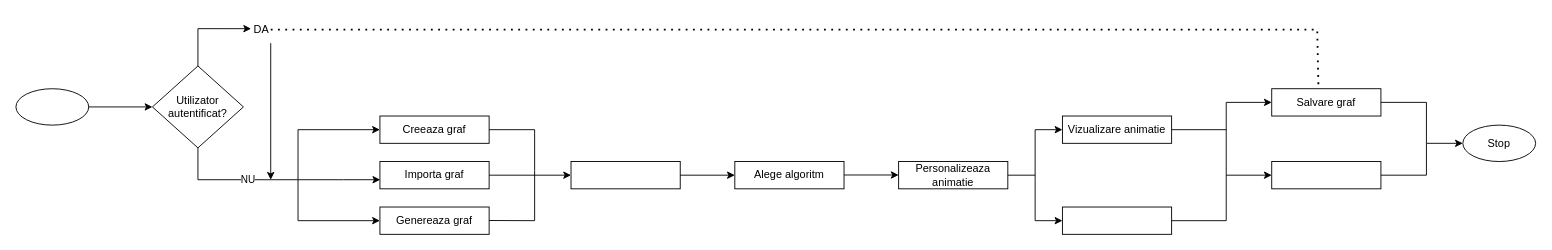
Image size: 1552x250. Some labels were removed from this diagram. The centre of each missing label's shape, as x and y in pixels:
"Animatie pas cu pas" belongs at point (1117, 220).
"Editeaza graf" belongs at point (625, 175).
"Exporta graf" belongs at point (1326, 175).
"Start" belongs at point (52, 106).
